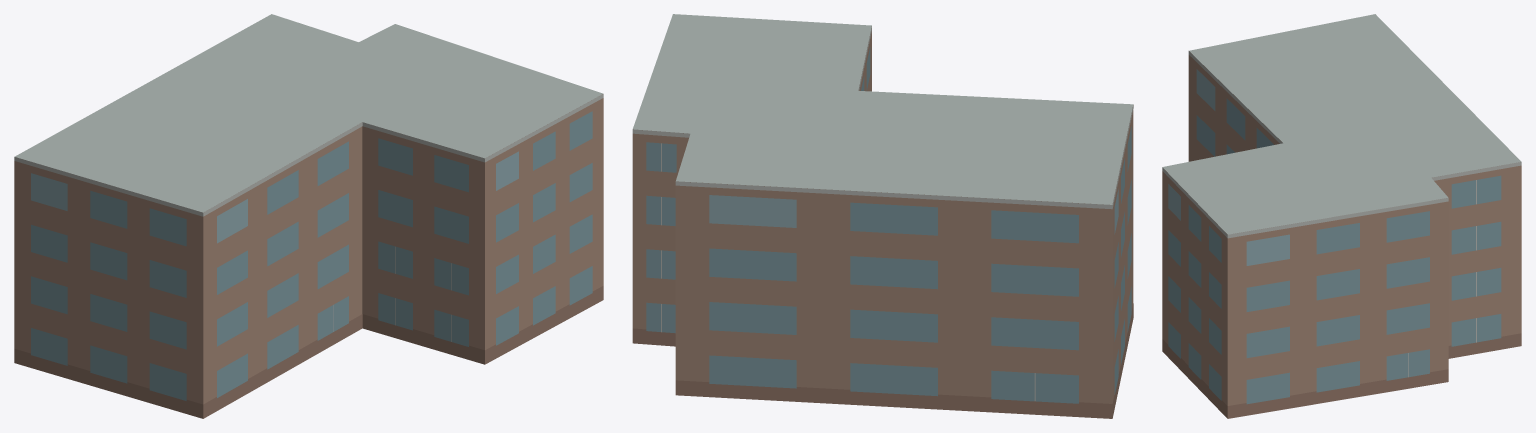
File: residential-1faf3f80-0a80-481b-adc5-06765e0383d1.glb
The picture shows the model from 3 angles, left to right: view 1: azimuth 30°, elevation 25°; view 2: azimuth 150°, elevation 25°; view 3: azimuth 270°, elevation 25°; orthographic projection. The views are drawn at different scales.
Parts seen in each view (by area): view 1: residential-1faf3f80-0a80-481b-adc5-06765e0383d1.tmp; view 2: residential-1faf3f80-0a80-481b-adc5-06765e0383d1.tmp; view 3: residential-1faf3f80-0a80-481b-adc5-06765e0383d1.tmp.
Part boxes in pixels (x1=…): residential-1faf3f80-0a80-481b-adc5-06765e0383d1.tmp: x1=14, y1=14, x2=603, y2=418; residential-1faf3f80-0a80-481b-adc5-06765e0383d1.tmp: x1=632, y1=14, x2=1133, y2=418; residential-1faf3f80-0a80-481b-adc5-06765e0383d1.tmp: x1=1162, y1=14, x2=1521, y2=418.
Size of the model in its own units: 31.35 by 12.2 by 21.58.
